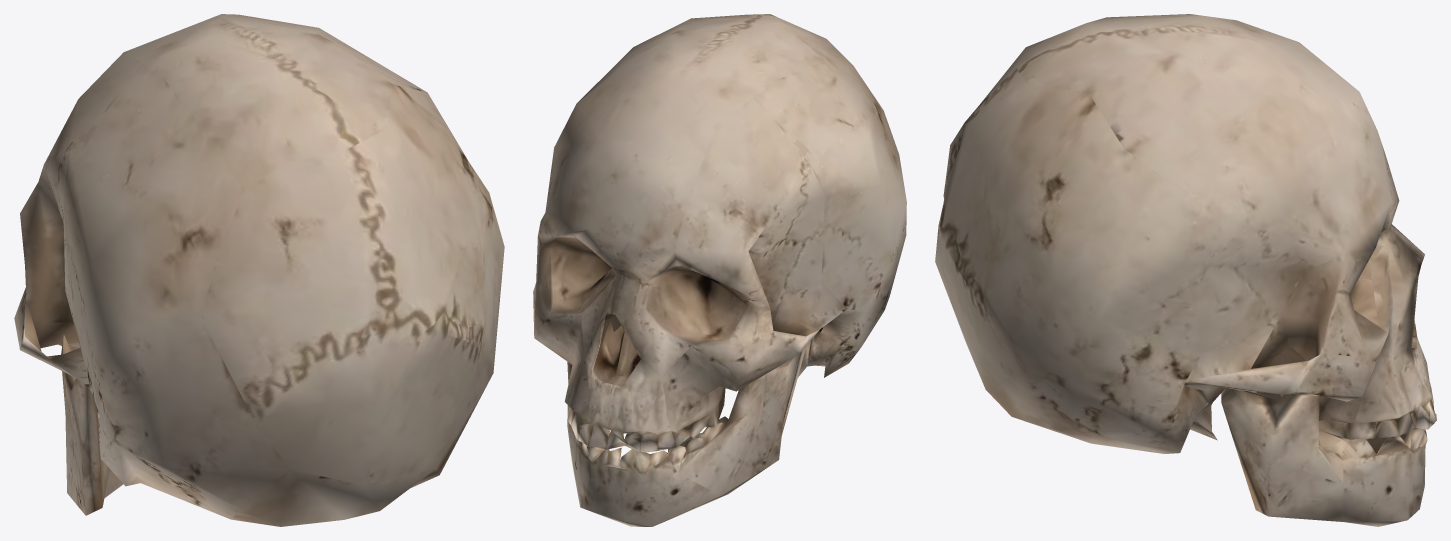
Rendered from bob-piece-skull.glb.
3 renders of one model, left to right at view 1: azimuth 30°, elevation 25°; view 2: azimuth 150°, elevation 25°; view 3: azimuth 270°, elevation 25°, orthographic. The views are drawn at different scales.
Visible parts, largest first — view 1: model; view 2: model; view 3: model.
Boxes of the visible parts, x1=… form: model: x1=14, y1=14, x2=504, y2=526; model: x1=533, y1=14, x2=906, y2=526; model: x1=935, y1=14, x2=1436, y2=526.
Size of the model in its own units: 0.7574 by 0.9939 by 0.9485.
1 material, 1 textured.
